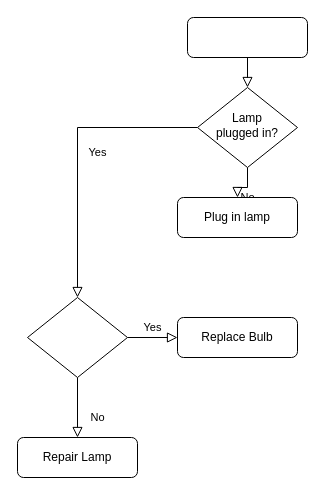
Some shapes in this 325 by 495 pixel diagram are drawn without their labels. Each missing label, with the box of its shape:
Bulb burned out?: (26, 296, 128, 378)
Initialize Model: (186, 16, 308, 58)
